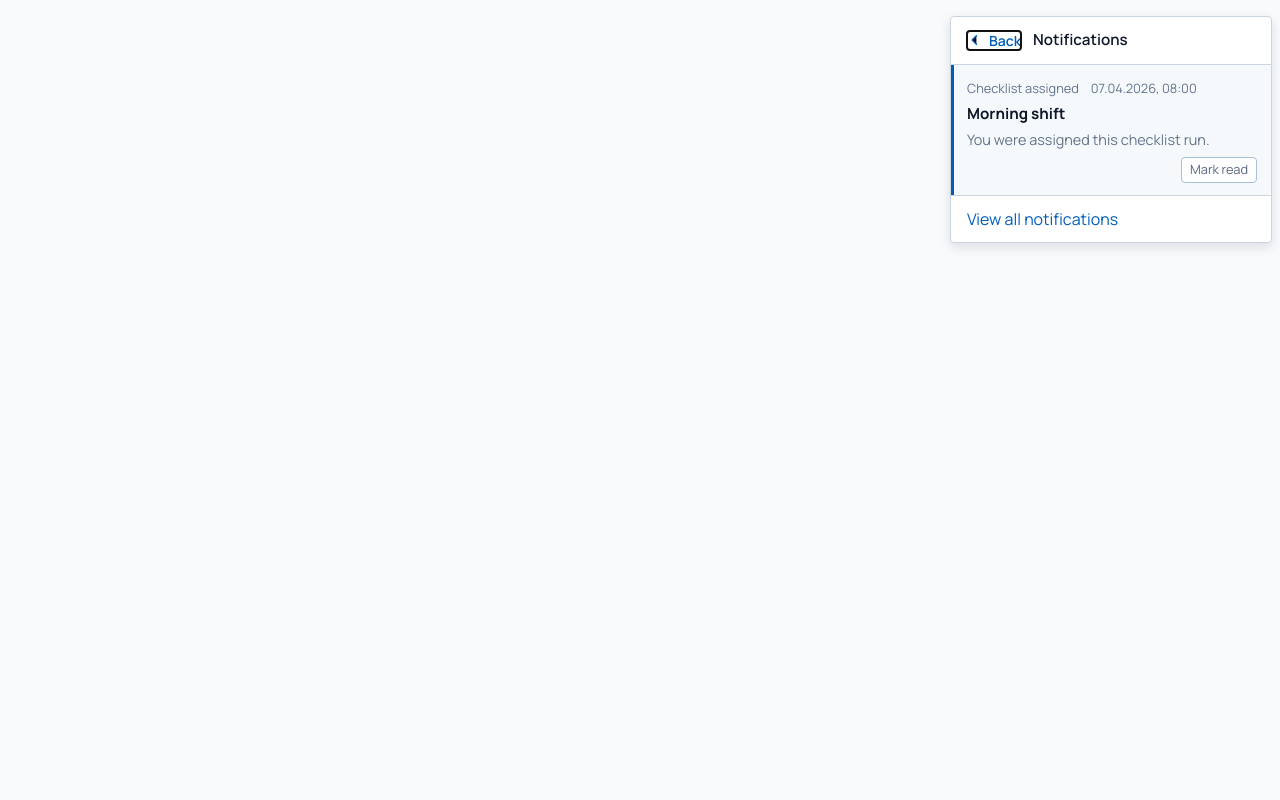
Test: NotificationsPopup › marks an unread notification as read from the popup
Click the button with class "notification-read-button": (1219, 170) [1181,158,1257,183]
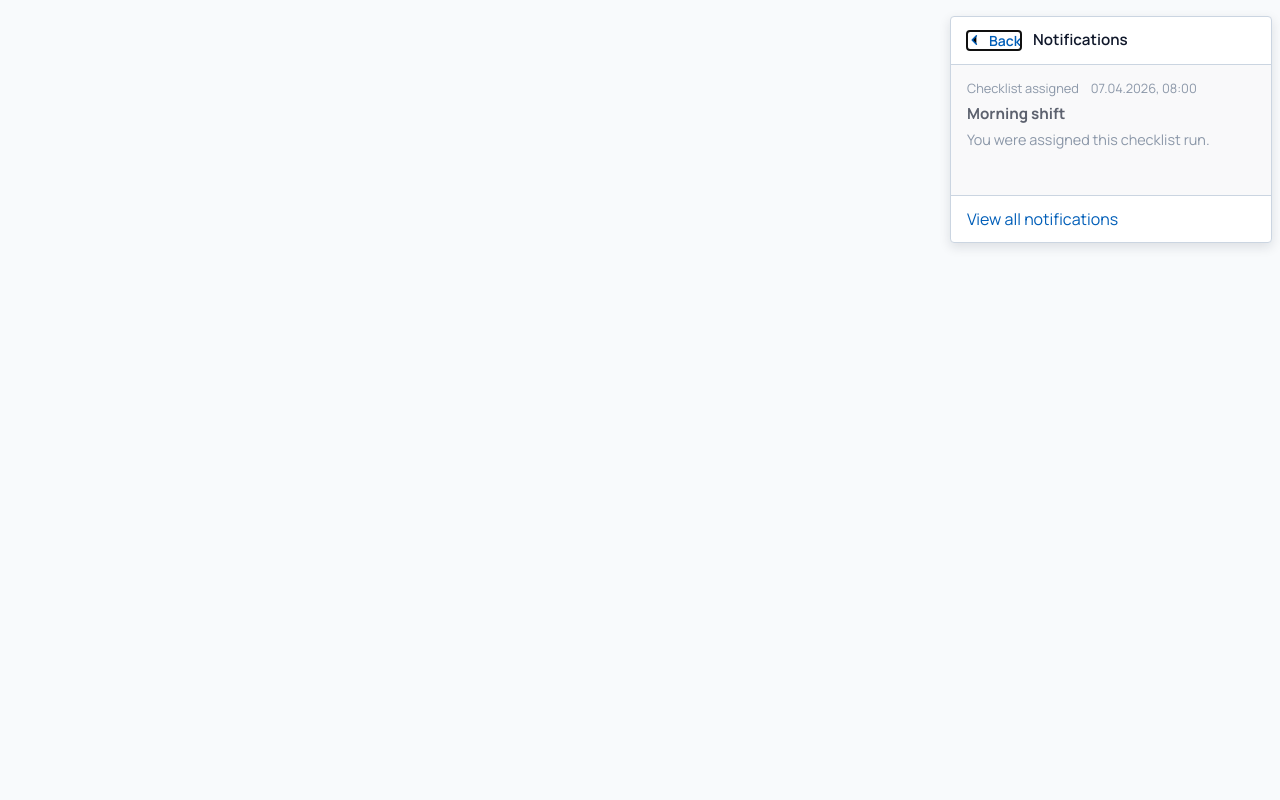
Result: the button with class "notification-read-button" is gone
Result: the button with class "notification-link-read" is shown at [951,65,1271,195]
